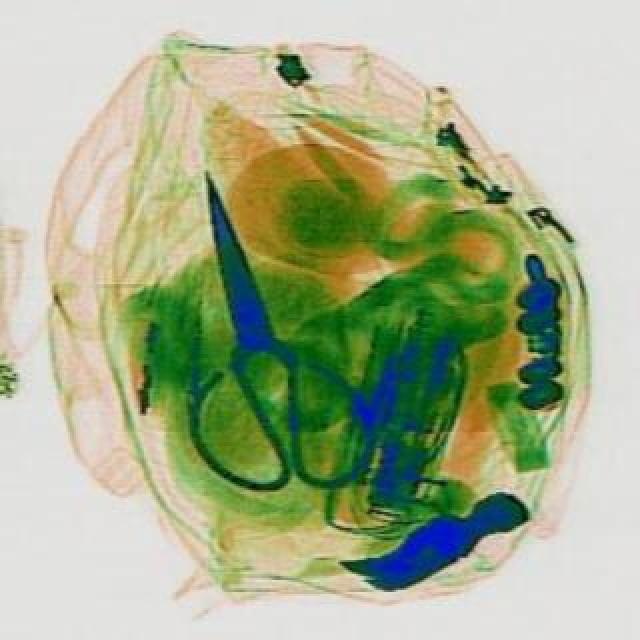pliers: (116, 146, 384, 510)
